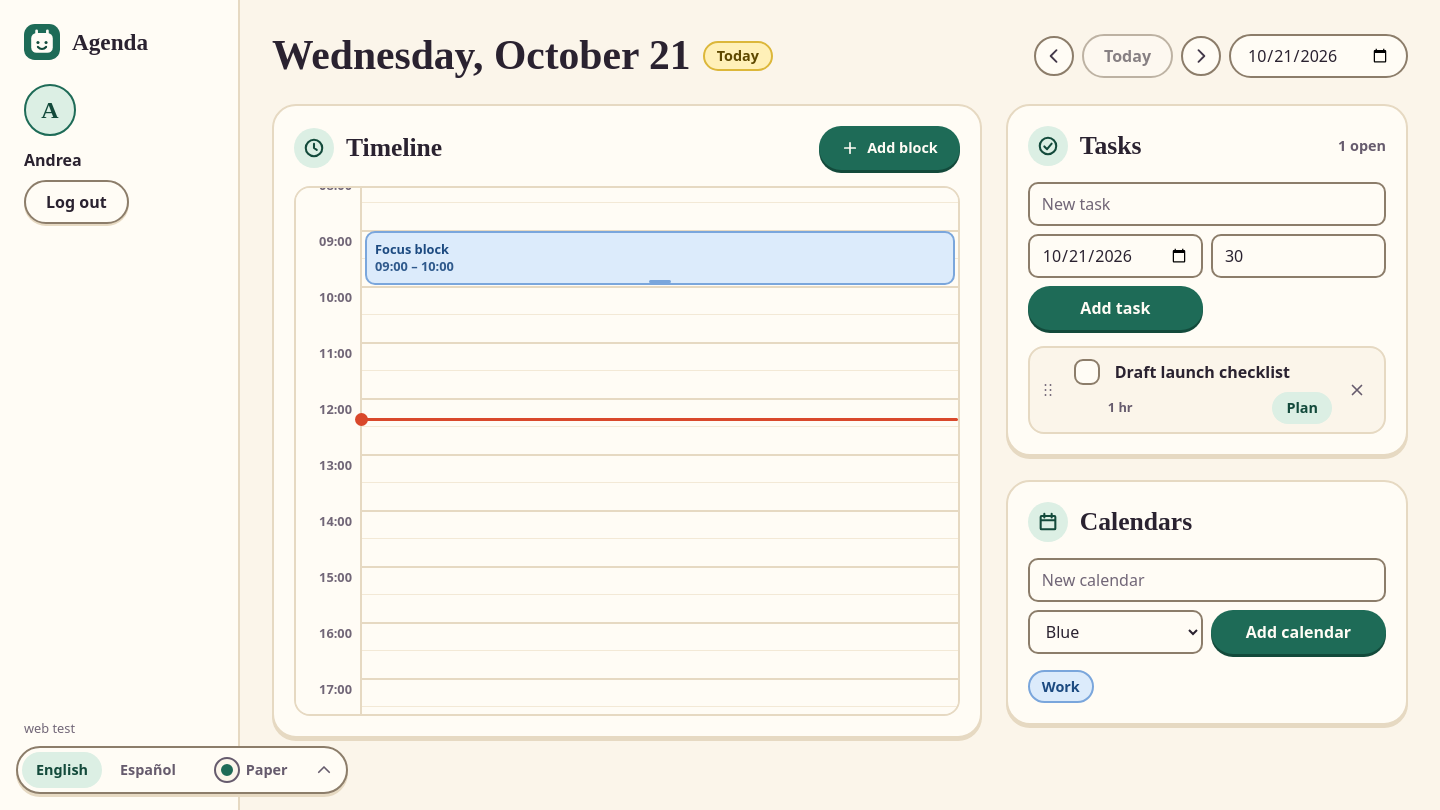
Scenario: App › adds a task to the list
(page scrolled)
Check: the text "Draft launch checklist" is shown, box [1115, 360, 1290, 384]
Type "Write tests" into the field with placeholder "New task".
click(1207, 204); type("Write tests")  # box [1028, 182, 1386, 226]
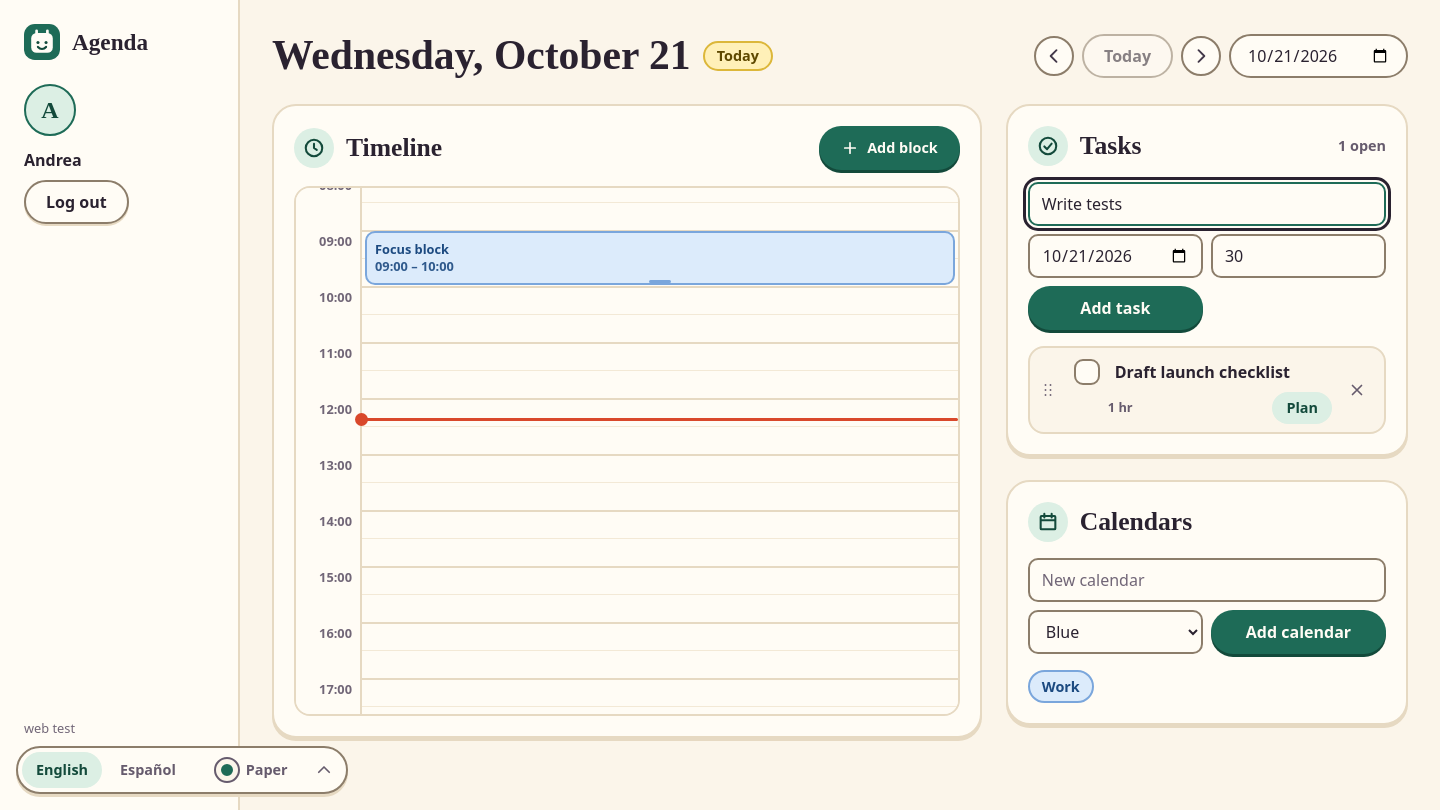
Click the button "Add task".
click(1115, 308)  # box [1028, 286, 1203, 330]
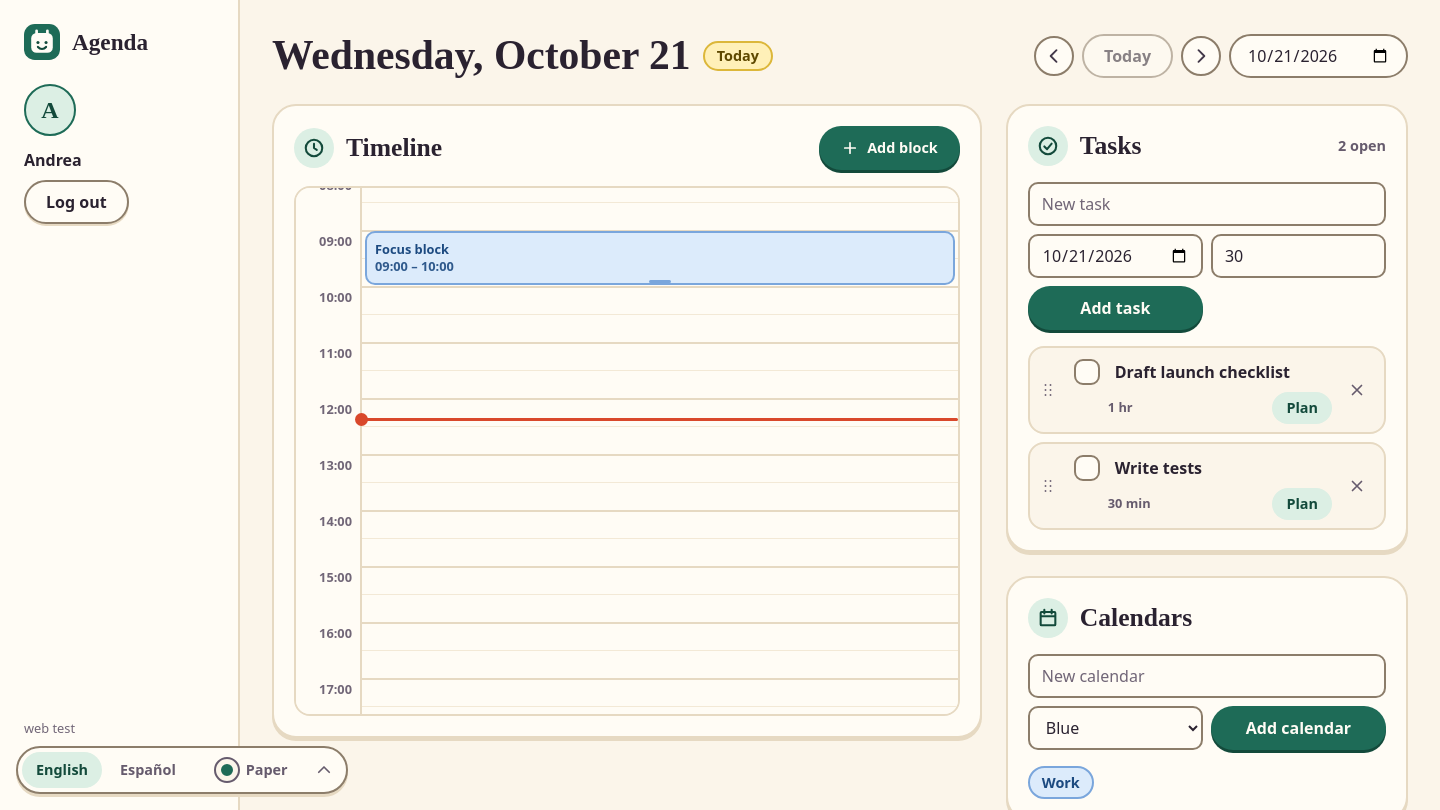
Check: the checkbox labelled "Write tests" is not checked, box [1074, 455, 1100, 481]
Check: the field with placeholder "New task" is empty, box [1028, 182, 1386, 226]
Check: the text "Write tests" is shown, box [1115, 456, 1202, 480]
